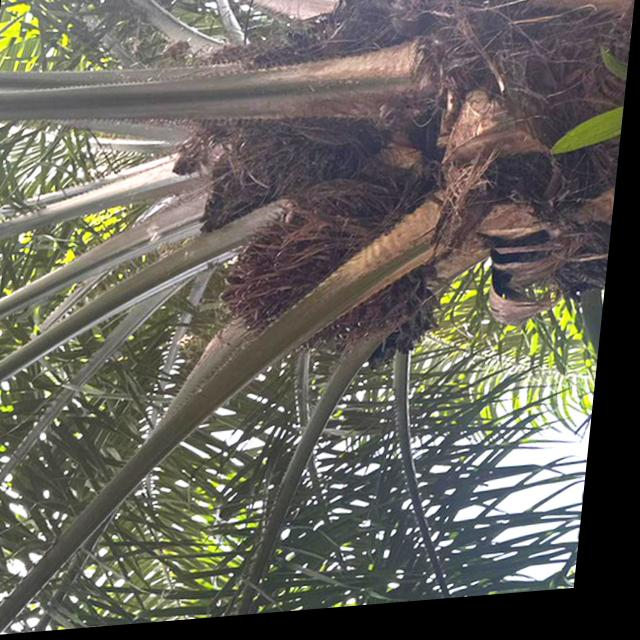ripe: (218, 195, 405, 363)
